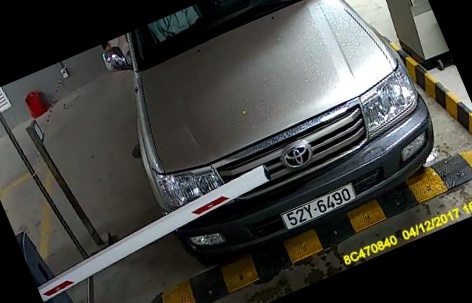plate: (281, 182, 358, 236)
